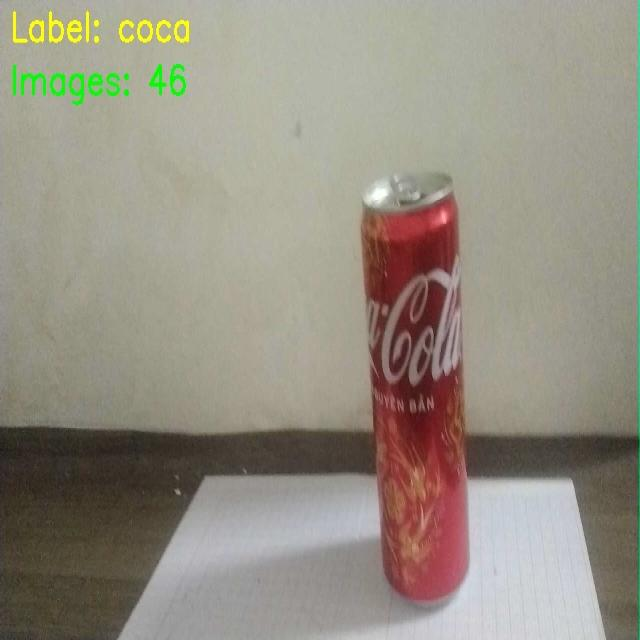Coca: (322, 152, 515, 613)
